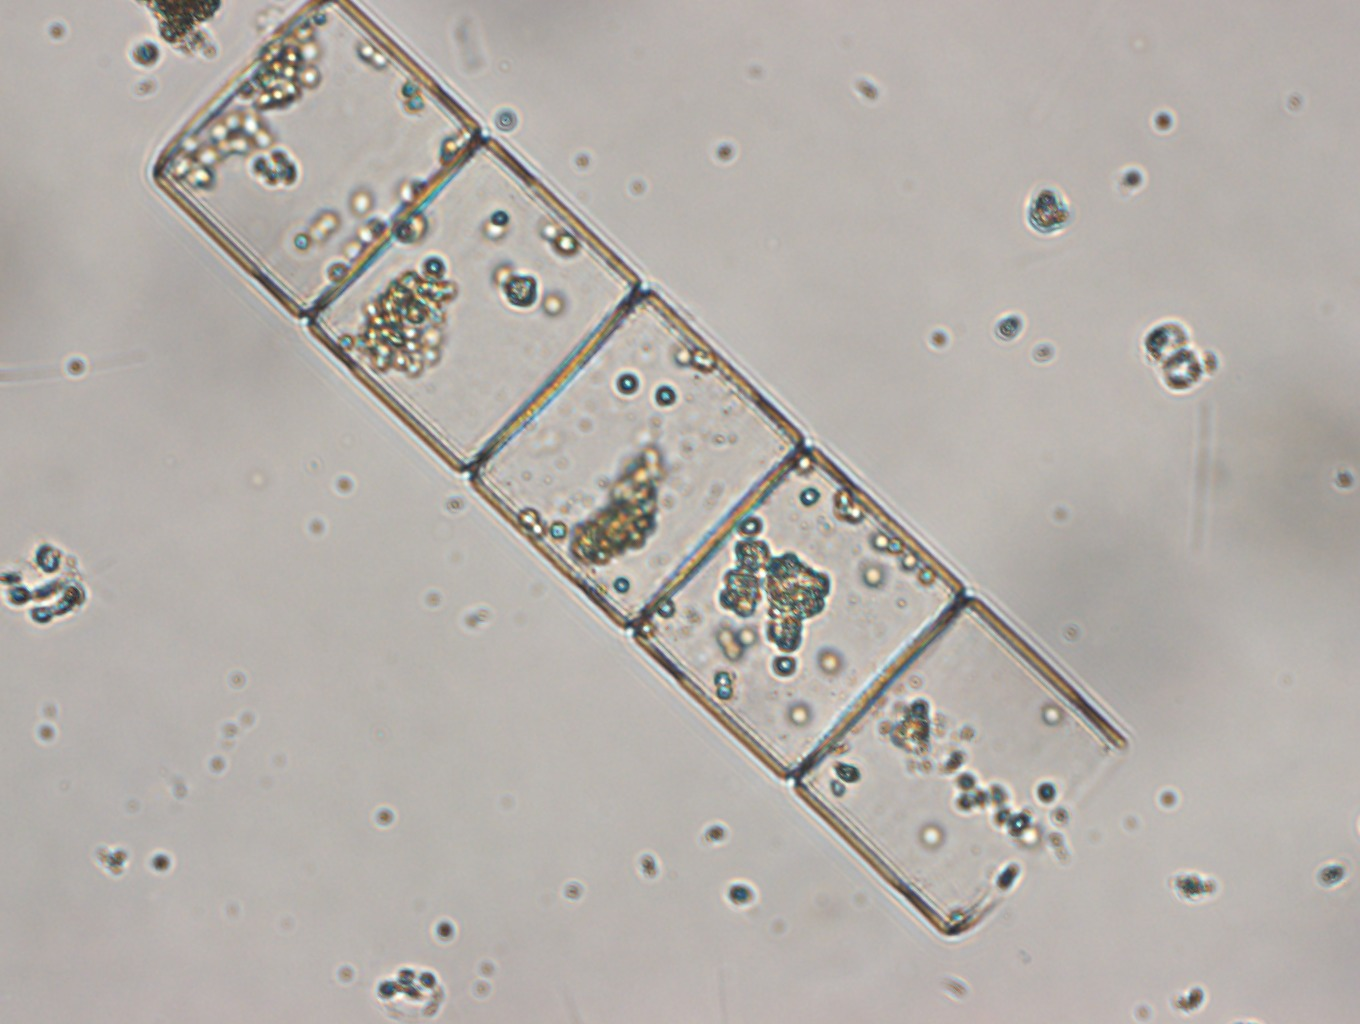guinardia flaccida: (155, 1, 1143, 940)
